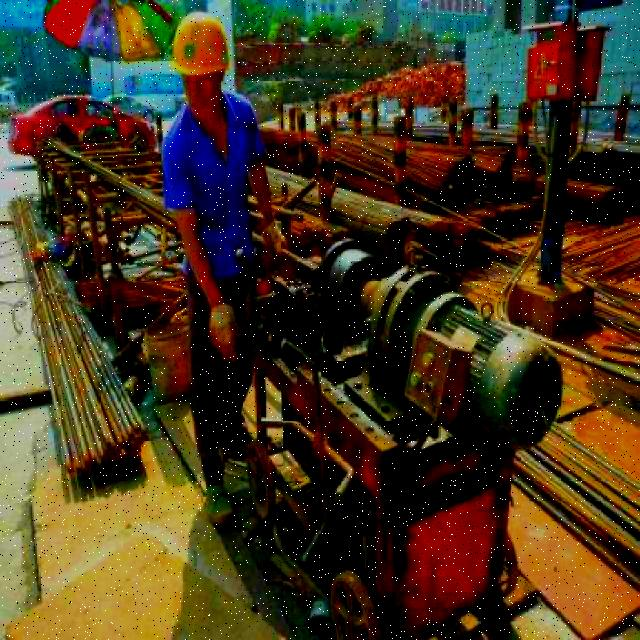Helmet: (163, 8, 234, 84)
